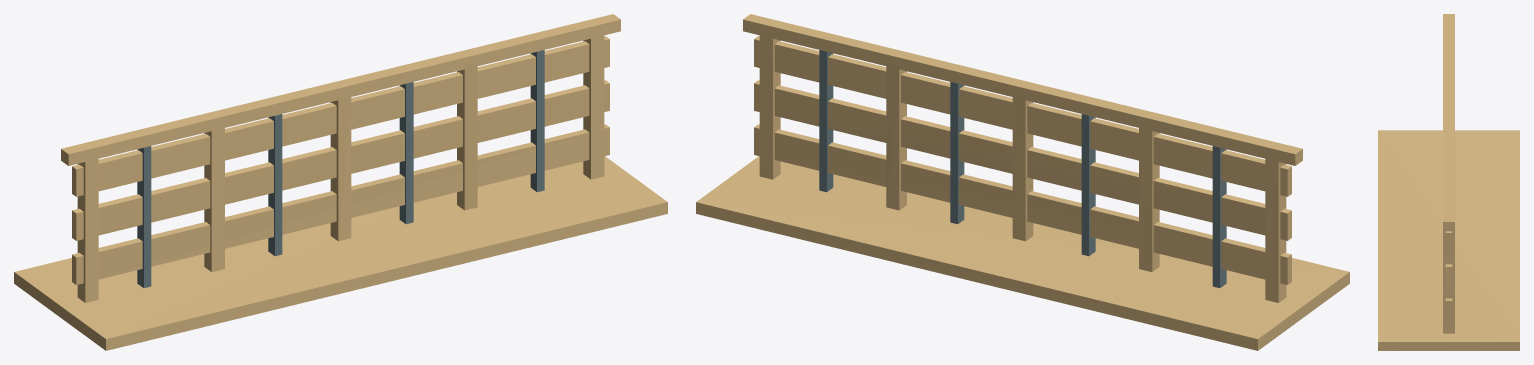
Rendered from Sand-barrier.glb.
3 views of the same model, side by side, from view 1: azimuth 30°, elevation 25°; view 2: azimuth 150°, elevation 25°; view 3: azimuth 270°, elevation 25° (orthographic). The views are drawn at different scales.
Visible parts, largest first — view 1: sand-barrier-static-barrier-fabric, sand-barrier-static-barrier-sand, sand-barrier-static-barrier-timber, sand-barrier-static-barrier-teal, sand-barrier-static-barrier-metal; view 2: sand-barrier-static-barrier-fabric, sand-barrier-static-barrier-sand, sand-barrier-static-barrier-timber, sand-barrier-static-barrier-teal, sand-barrier-static-barrier-metal; view 3: sand-barrier-static-barrier-sand, sand-barrier-static-barrier-teal, sand-barrier-static-barrier-timber, sand-barrier-static-barrier-fabric.
Boxes of the visible parts, x1=… form: sand-barrier-static-barrier-fabric: x1=72, y1=36, x2=609, y2=284; sand-barrier-static-barrier-sand: x1=14, y1=156, x2=667, y2=350; sand-barrier-static-barrier-timber: x1=77, y1=32, x2=604, y2=302; sand-barrier-static-barrier-teal: x1=61, y1=14, x2=620, y2=165; sand-barrier-static-barrier-metal: x1=137, y1=50, x2=544, y2=287; sand-barrier-static-barrier-fabric: x1=754, y1=36, x2=1291, y2=284; sand-barrier-static-barrier-sand: x1=696, y1=156, x2=1349, y2=350; sand-barrier-static-barrier-timber: x1=759, y1=31, x2=1286, y2=302; sand-barrier-static-barrier-teal: x1=743, y1=14, x2=1302, y2=165; sand-barrier-static-barrier-metal: x1=819, y1=50, x2=1226, y2=287; sand-barrier-static-barrier-sand: x1=1378, y1=130, x2=1519, y2=350; sand-barrier-static-barrier-teal: x1=1443, y1=14, x2=1454, y2=231; sand-barrier-static-barrier-timber: x1=1443, y1=231, x2=1454, y2=333; sand-barrier-static-barrier-fabric: x1=1445, y1=231, x2=1452, y2=322.
Bounding box in the file's own units: 6 × 1.68 × 1.7.
